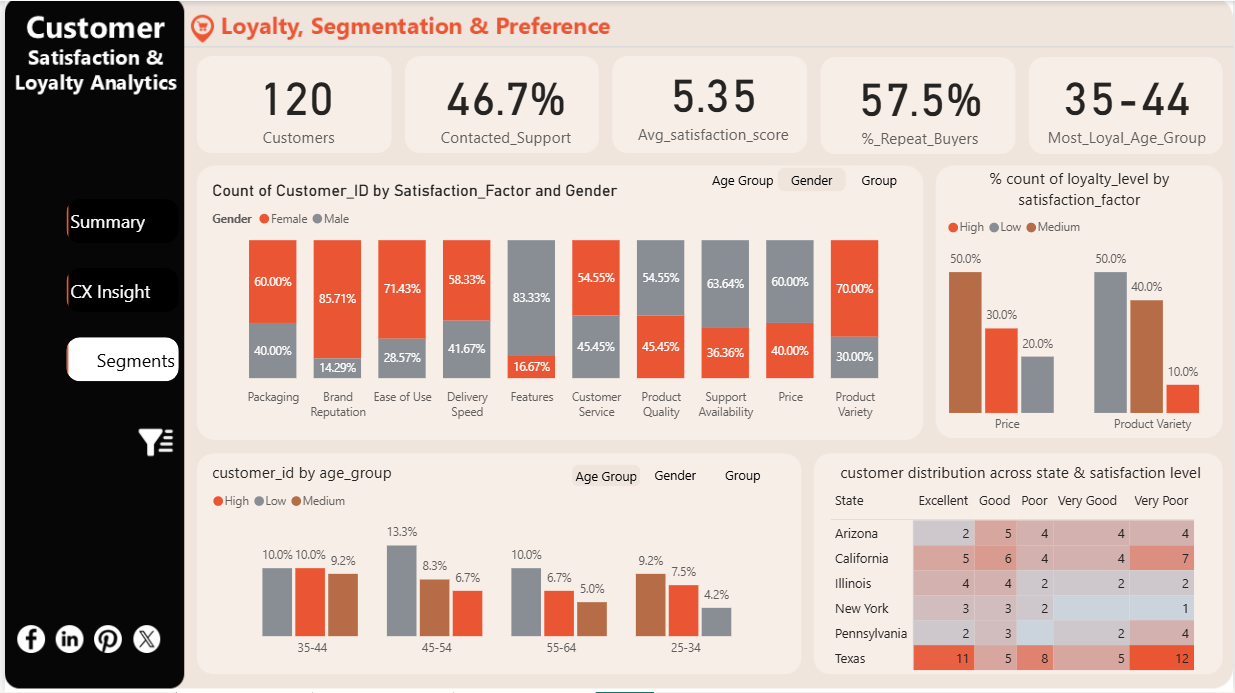

The page's visual inventory and layout, read from the dashboard file:
{"tool":"powerbi","page":{"name":"Segments","canvas":[1280,720],"ordinal":2},"visuals":[{"type":"shape","box":[875.8,173.8,71.2,25],"z":0,"group":"g1"},{"type":"clusteredColumnChart","title":"customer_id by age_group","fields":{"Category":["Customer_Dataset.Age_Group"],"Series":["Customer_Dataset.Loyalty_Level"],"Y":["CountNonNull(Customer_Dataset.Customer_ID)"]},"box":[211.7,480,606.7,211.7],"z":0},{"type":"shape","box":[733.7,481.5,71.2,25],"z":0,"group":"g3"},{"type":"shape","box":[804.5,173.8,71.2,25],"z":1000,"group":"g2"},{"type":"shape","box":[804.5,173.8,71.2,25],"z":1000,"group":"g1"},{"type":"pivotTable","title":"customer distribution across state & satisfaction level","fields":{"Columns":["Customer_Dataset.Satisfaction_Level"],"Rows":["Customer_Dataset.State"],"Values":["CountNonNull(Customer_Dataset.Customer_ID)"]},"box":[855,480,406.7,226.7],"z":1000},{"type":"shape","box":[662.4,481.5,71.2,25],"z":1000,"group":"g3"},{"type":"shape","box":[733.3,173.8,71.2,25],"z":2000,"group":"g1"},{"type":"shape","box":[591.2,481.5,71.2,25],"z":2000,"group":"g3"},{"type":"shape","box":[591.2,483.4,71.2,23],"z":2000,"group":"g4"},{"type":"hundredPercentStackedColumnChart","fields":{"Category":["Customer_Dataset.Satisfaction_Factor"],"Series":["Customer_Dataset.Gender"],"Y":["CountNonNull(Customer_Dataset.Customer_ID)"]},"box":[211.6,187.7,731.7,256.1],"z":3000},{"type":"group","id":"g1","title":"Inactivebtn","box":[733.3,173.8,213.8,25],"z":5000},{"type":"group","id":"g2","title":"Activebtn","box":[733.3,173.8,213.8,25],"z":6000},{"type":"card","fields":{"Values":["All_Measures.Total customers"]},"box":[206.7,56,194.3,100],"z":7000},{"type":"card","fields":{"Values":["All_Measures.Avg_satisfaction_score"]},"box":[639.5,53.1,197.1,100],"z":8000},{"type":"card","fields":{"Values":["All_Measures.%_Who_Contacted_Support"]},"box":[426.7,56,190,100],"z":9000},{"type":"card","fields":{"Values":["All_Measures.%_Repeat_Buyers"]},"box":[858.1,57.4,190,98.6],"z":10000},{"type":"pageNavigator","box":[63.6,206.8,117.7,190.9],"z":11000},{"type":"actionButton","box":[133.6,435.8,47.7,47.7],"z":12000},{"type":"card","fields":{"Values":["All_Measures.Most_Loyal_Age_Group"]},"box":[1073.3,56.7,190,100],"z":14000},{"type":"clusteredColumnChart","title":"% count of loyalty_level by satisfaction_factor","fields":{"Category":["Customer_Dataset.Satisfaction_Factor"],"Series":["Customer_Dataset.Loyalty_Level"],"Y":["All_Measures.Pct_within_Factor"]},"box":[977.6,173.9,285.4,285.4],"z":15000},{"type":"group","id":"g3","title":"Inactivebtn loyalty","box":[591.2,481.5,213.8,23.1],"z":15500},{"type":"group","id":"g4","title":"Activebtnloyalty","box":[591.2,483.4,213.8,23],"z":16000}]}

Visuals, with their boxes on the page's 1280x720 design canvas (x1, y1, x2, y2). These are canvas units, not pixel positions in the 1235x693 screenshot, which may show the page scaled, cropped or inside an application window:
shape: (x1=876, y1=174, x2=947, y2=199)
"customer_id by age_group" clusteredColumnChart: (x1=212, y1=480, x2=818, y2=692)
shape: (x1=734, y1=482, x2=805, y2=506)
shape: (x1=804, y1=174, x2=876, y2=199)
shape: (x1=804, y1=174, x2=876, y2=199)
"customer distribution across state & satisfaction level" pivotTable: (x1=855, y1=480, x2=1262, y2=707)
shape: (x1=662, y1=482, x2=734, y2=506)
shape: (x1=733, y1=174, x2=804, y2=199)
shape: (x1=591, y1=482, x2=662, y2=506)
shape: (x1=591, y1=483, x2=662, y2=506)
hundredPercentStackedColumnChart - Customer_Dataset.Satisfaction_Factor x Customer_Dataset.Gender: (x1=212, y1=188, x2=943, y2=444)
"Inactivebtn" group: (x1=733, y1=174, x2=947, y2=199)
"Activebtn" group: (x1=733, y1=174, x2=947, y2=199)
card - All_Measures.Total customers: (x1=207, y1=56, x2=401, y2=156)
card - All_Measures.Avg_satisfaction_score: (x1=640, y1=53, x2=837, y2=153)
card - All_Measures.%_Who_Contacted_Support: (x1=427, y1=56, x2=617, y2=156)
card - All_Measures.%_Repeat_Buyers: (x1=858, y1=57, x2=1048, y2=156)
pageNavigator: (x1=64, y1=207, x2=181, y2=398)
actionButton: (x1=134, y1=436, x2=181, y2=484)
card - All_Measures.Most_Loyal_Age_Group: (x1=1073, y1=57, x2=1263, y2=157)
"% count of loyalty_level by satisfaction_factor" clusteredColumnChart: (x1=978, y1=174, x2=1263, y2=459)
"Inactivebtn loyalty" group: (x1=591, y1=482, x2=805, y2=505)
"Activebtnloyalty" group: (x1=591, y1=483, x2=805, y2=506)
